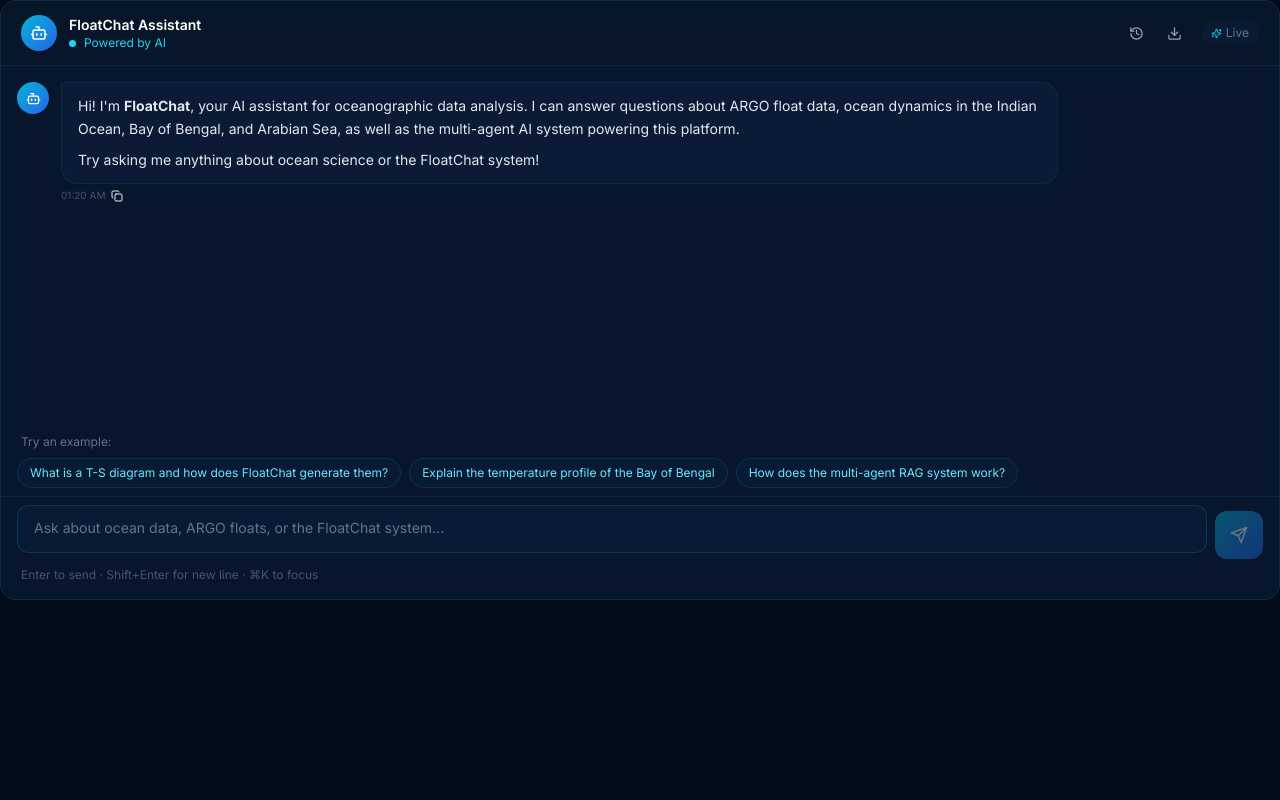
Test case: ChatDemo › shows system notice on API error response
The width and height of the screenshot is (1280, 800).
Step 1. Replace the text in the text box with "Hello" → [612, 529], box [17, 505, 1207, 553]
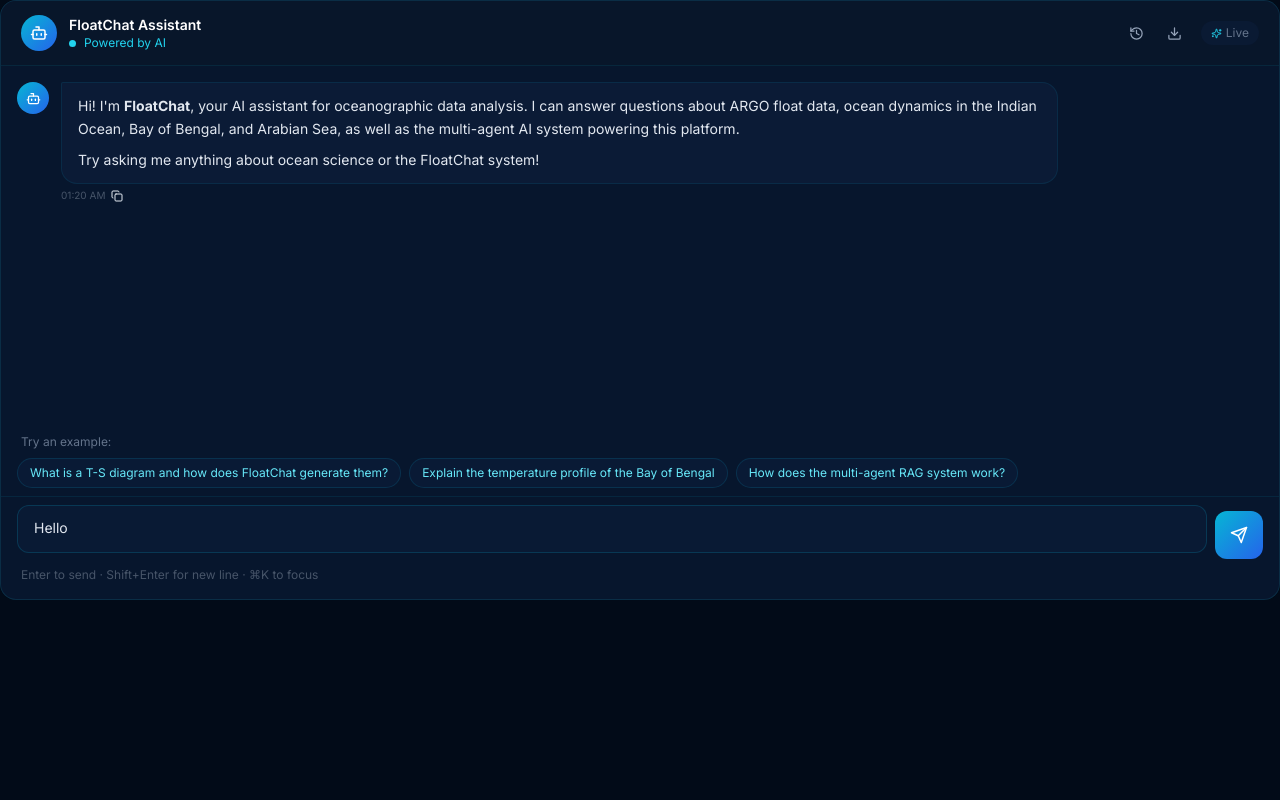
Step 2. Click the button named "Send message" → [1239, 535], box [1215, 511, 1263, 559]
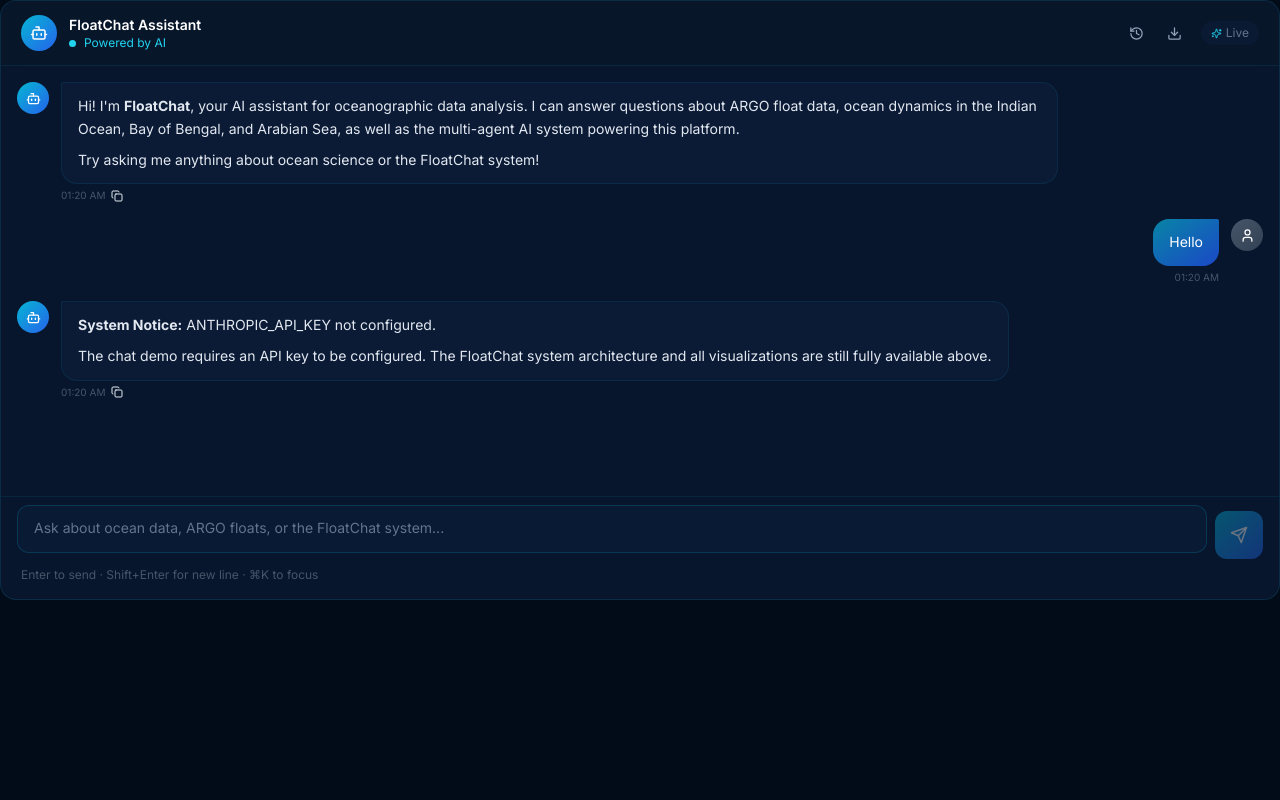
expect the text "System Notice:" is shown: met, box [78, 316, 182, 333]
